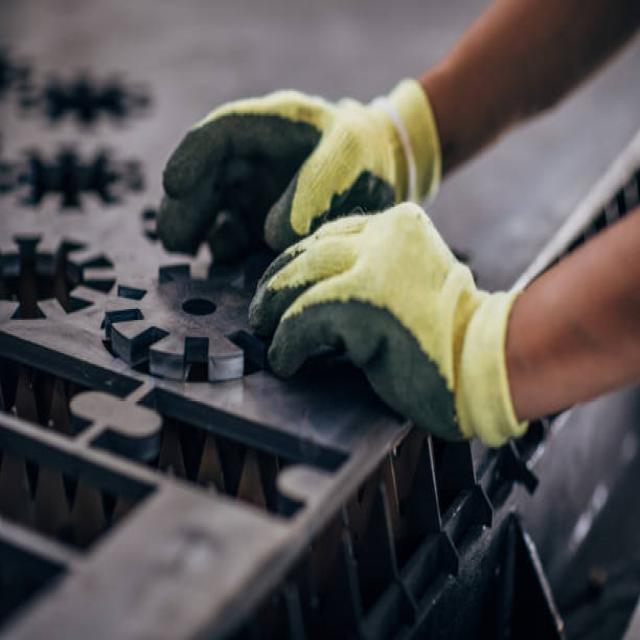gloves: (243, 201, 532, 447), (157, 77, 441, 256)
